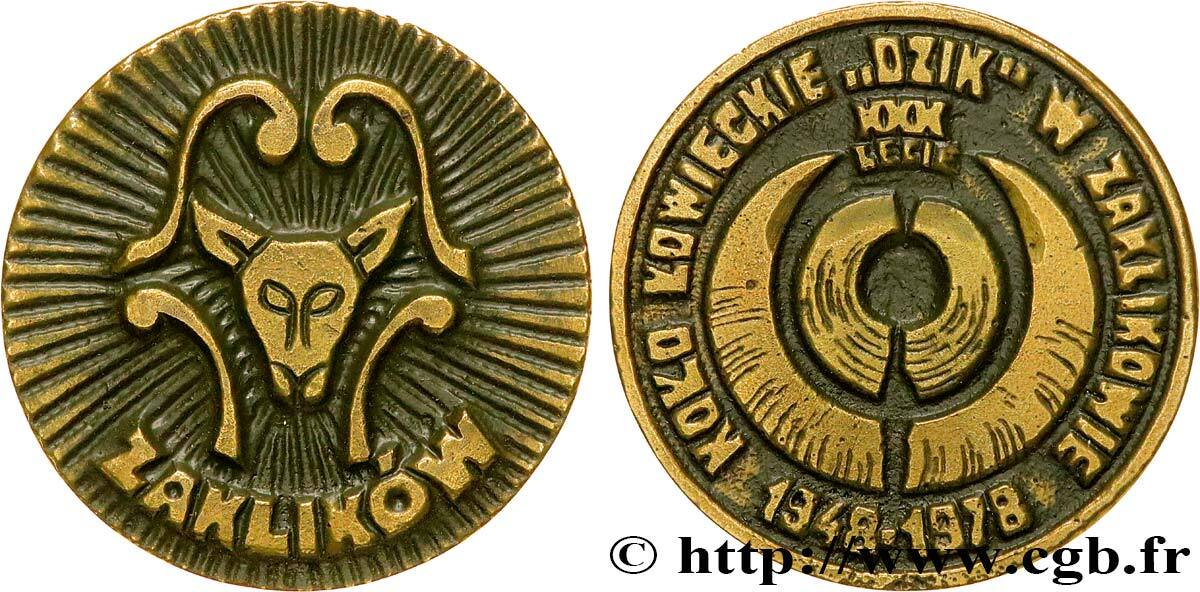coin: (1, 3, 600, 592), (606, 5, 1198, 592)
